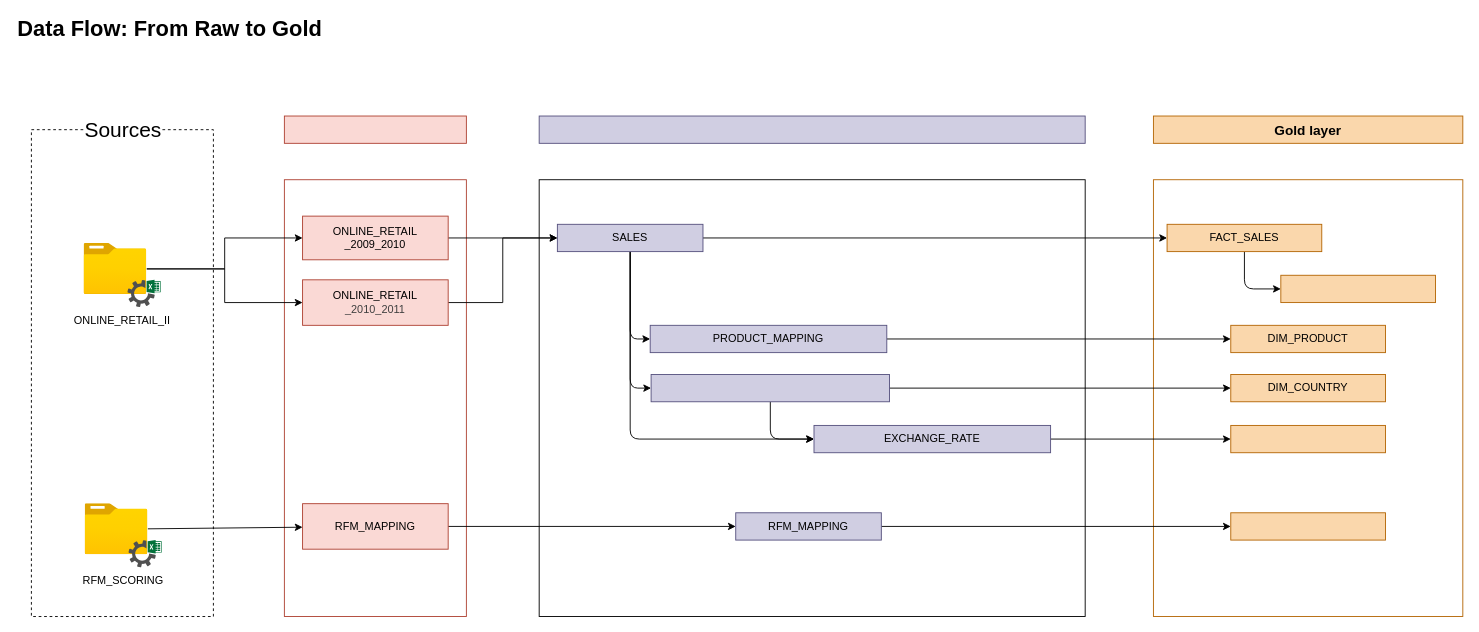
This 1479x632 diagram has some shape labels left out. Each missing label, with the box of its shape:
Bronze layer: (283, 115, 466, 143)
COUNTRY_MAPPING_METADATA: (650, 374, 890, 402)
DIM_CUSTOMER_RFM: (1280, 274, 1436, 303)
DIM_EXCHANGE_RATE: (1230, 425, 1385, 453)
DIM_RFM_MAPPING: (1230, 512, 1385, 540)
Silver layer: (538, 115, 1085, 143)
